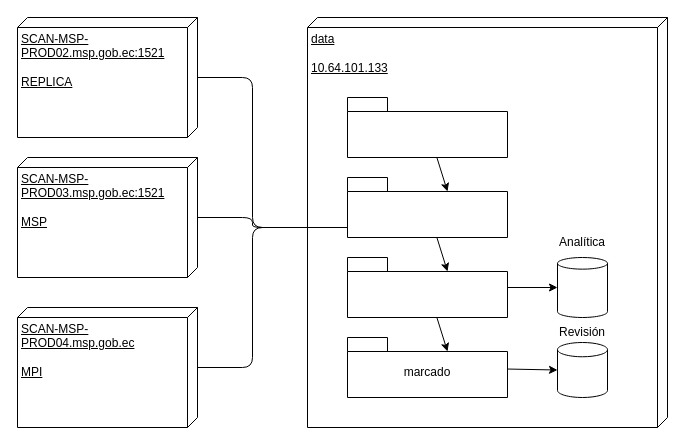
Image size: 685x445. Some labels were removed from this diagram. Here are the shapes that lost their labels. From the top down, the centre of each, then its label:
At [427,127]: "Ingesta".
At [427,207]: "tratamiento, limpieza, enrquesimiento".
At [427,287]: "perfilado".
